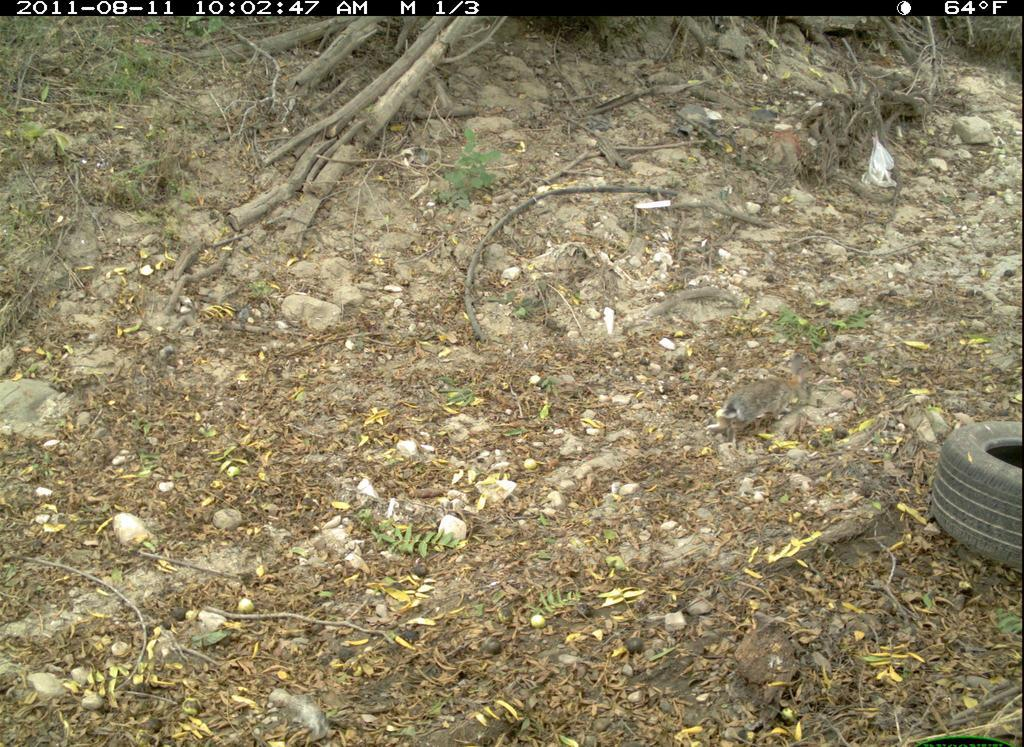rabbit: (708, 349, 822, 459)
